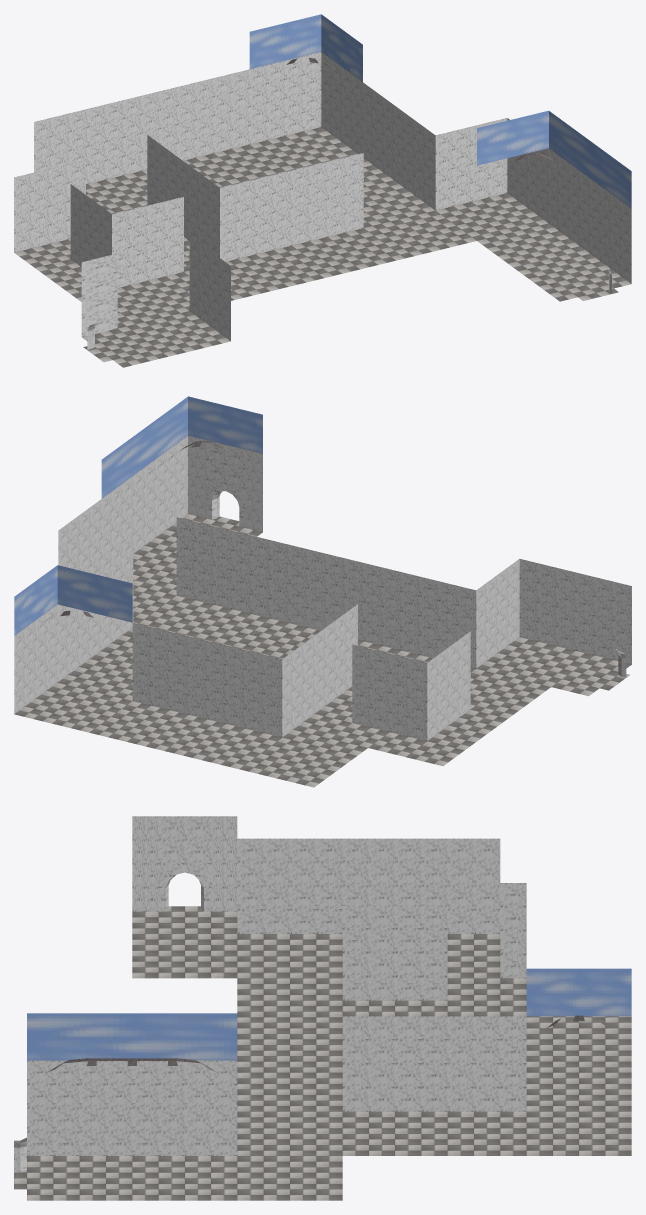
Rendered from Hallway13.glb.
The picture shows the model from 3 angles, top to bottom: view 1: azimuth 30°, elevation 25°; view 2: azimuth 150°, elevation 25°; view 3: azimuth 270°, elevation 25°; orthographic projection. The views are drawn at different scales.
Visible parts, largest first — view 1: Walls.012, Floor.011, Sky.011; view 2: Walls.012, Floor.011, Sky.011; view 3: Walls.012, Floor.011, Sky.011, Ceiling.011.
Boxes of the visible parts, x1,y1,x2,y2 form: Walls.012: [14, 52, 631, 349]; Floor.011: [14, 127, 631, 367]; Sky.011: [249, 14, 631, 208]; Walls.012: [14, 435, 631, 740]; Floor.011: [14, 514, 631, 787]; Sky.011: [14, 396, 262, 635]; Walls.012: [14, 816, 526, 1171]; Floor.011: [14, 906, 631, 1200]; Sky.011: [27, 968, 631, 1060]; Ceiling.011: [47, 1015, 610, 1072].
Size of the model in its own units: 26.5 by 6 by 23.51.
Materials: 4 (4 with a texture image).
